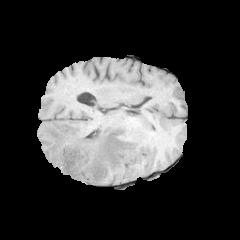glioma: (44, 125, 142, 183)
